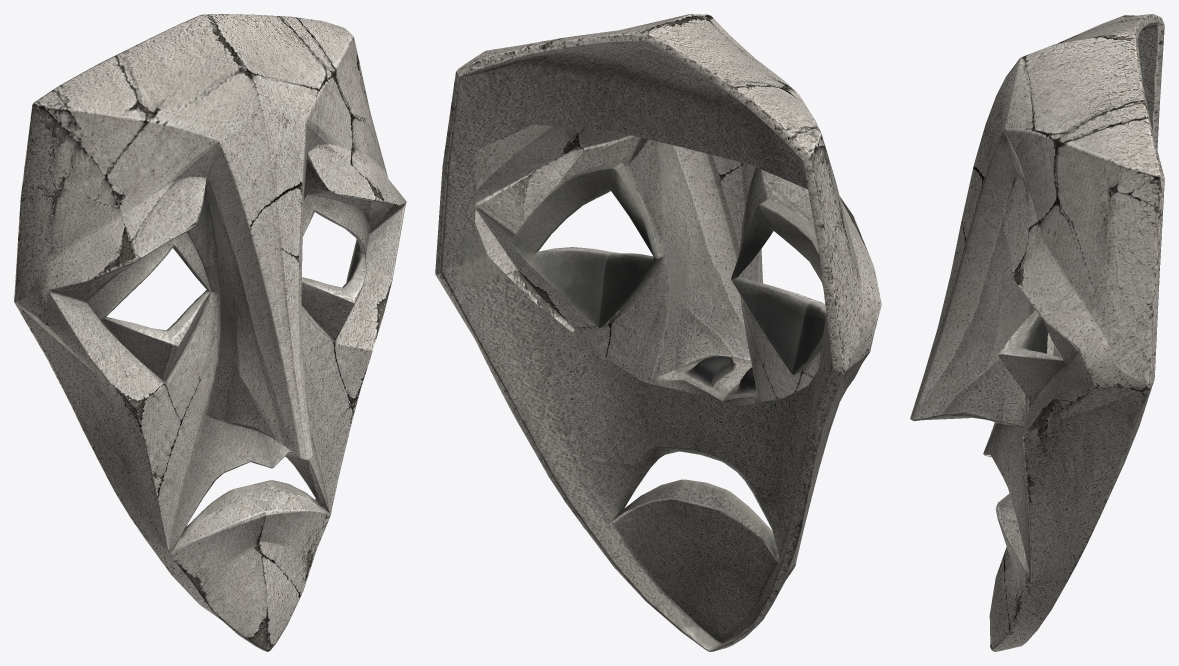
Rendered from rostro_4_escalera.glb.
The picture shows the model from 3 angles, left to right: view 1: azimuth 30°, elevation 25°; view 2: azimuth 150°, elevation 25°; view 3: azimuth 270°, elevation 25°; orthographic projection. The views are drawn at different scales.
Visible parts, largest first — view 1: tripo_node_750ec7c1-d7ba-4d76-8682-d0edc5005c2c; view 2: tripo_node_750ec7c1-d7ba-4d76-8682-d0edc5005c2c; view 3: tripo_node_750ec7c1-d7ba-4d76-8682-d0edc5005c2c.
Part boxes in pixels (box(x1,y1,x2,y2)): tripo_node_750ec7c1-d7ba-4d76-8682-d0edc5005c2c: box(14, 14, 406, 651); tripo_node_750ec7c1-d7ba-4d76-8682-d0edc5005c2c: box(435, 14, 881, 651); tripo_node_750ec7c1-d7ba-4d76-8682-d0edc5005c2c: box(910, 14, 1164, 651).
Size of the model in its own units: 0.6411 by 0.9995 by 0.3735.
1 material, 1 textured.
